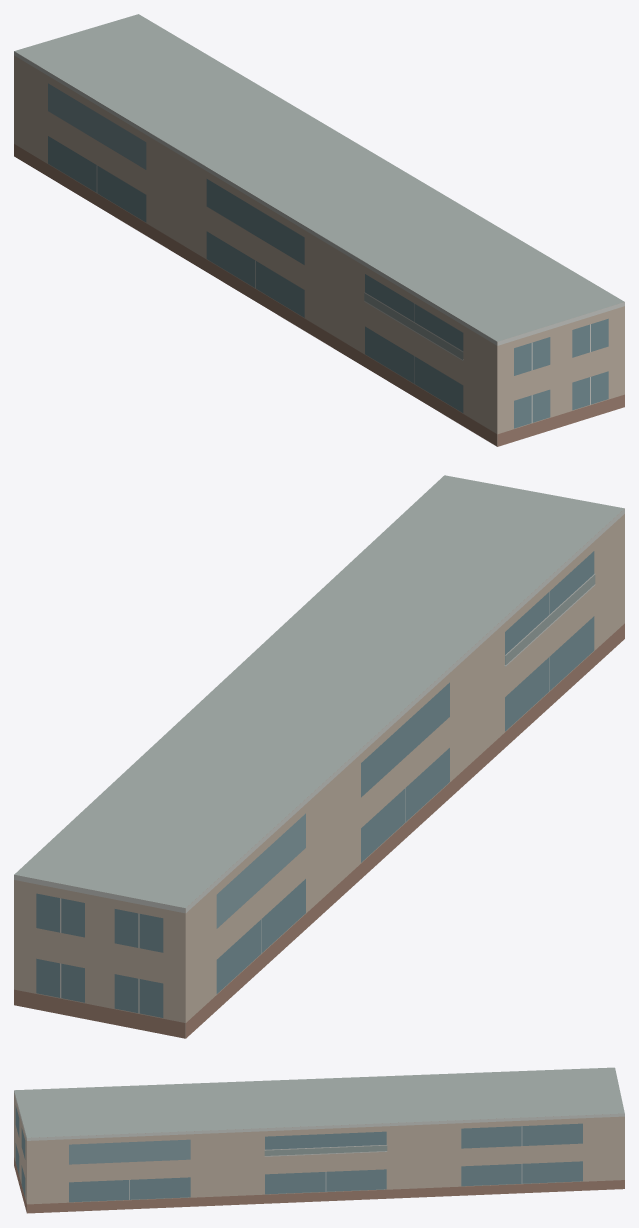
Rendered from survey-upis-32909575.glb.
The picture shows the model from 3 angles, top to bottom: view 1: azimuth 30°, elevation 25°; view 2: azimuth 150°, elevation 25°; view 3: azimuth 270°, elevation 25°; orthographic projection. The views are drawn at different scales.
Visible parts, largest first — view 1: survey-upis-32909575.tmp; view 2: survey-upis-32909575.tmp; view 3: survey-upis-32909575.tmp.
Part boxes in pixels (left/top/right/bottom): survey-upis-32909575.tmp: left=14, top=14, right=624, bottom=446; survey-upis-32909575.tmp: left=14, top=475, right=624, bottom=1038; survey-upis-32909575.tmp: left=14, top=1067, right=624, bottom=1213.
Bounding box in the file's own units: 12.22 × 6.1 × 44.75.
